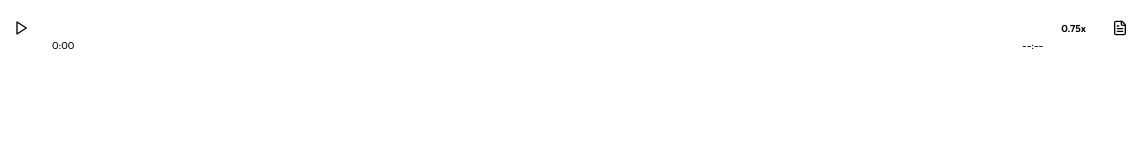
Test: AudioMessagePlayer - Playback Speed Controls › continues cycling after multiple full loops
Earlier steps of the test are not shown.
Click the button titled "Velocidade" at (1074, 29), box [1055, 17, 1092, 41]
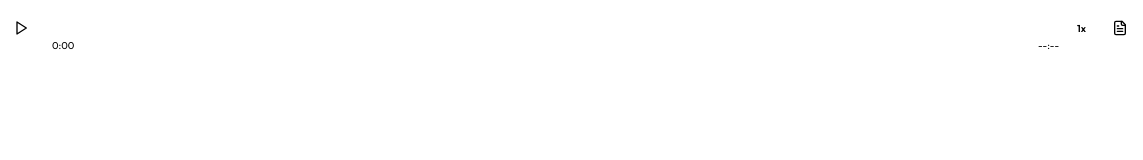
Expected: the button titled "Velocidade" reads "1x"
Click the button titled "Velocidade" at (1082, 29), box [1071, 17, 1092, 41]
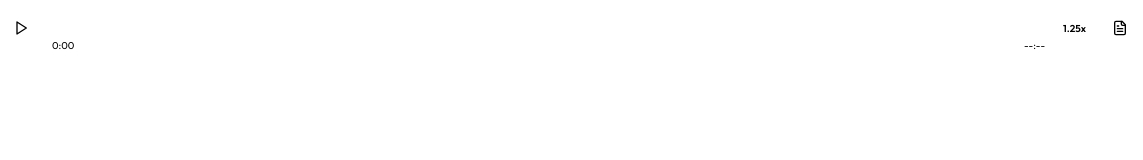
Expected: the button titled "Velocidade" reads "1.25x", [1057, 17, 1092, 41]
